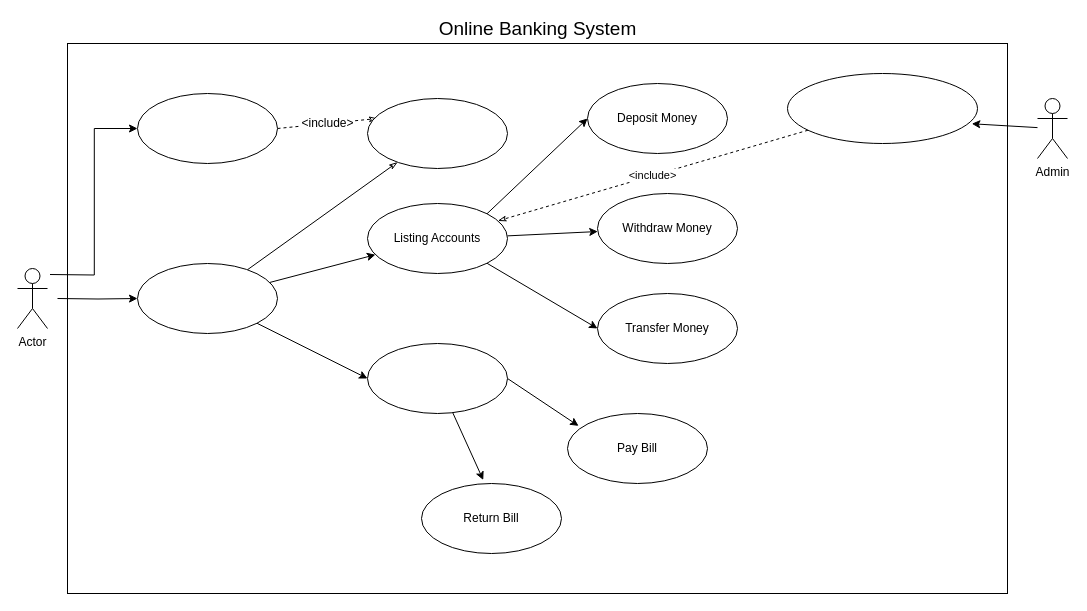
Some shapes in this 1087 by 611 pixel diagram are drawn without their labels. Each missing label, with the centre of its shape:
"Freeze Account by Fraud" goes at [882,108].
"Get Global Position" goes at [207,298].
"Listing Bills" goes at [437,378].
"Open Account" goes at [207,128].
"Personal data management" goes at [437,133].
